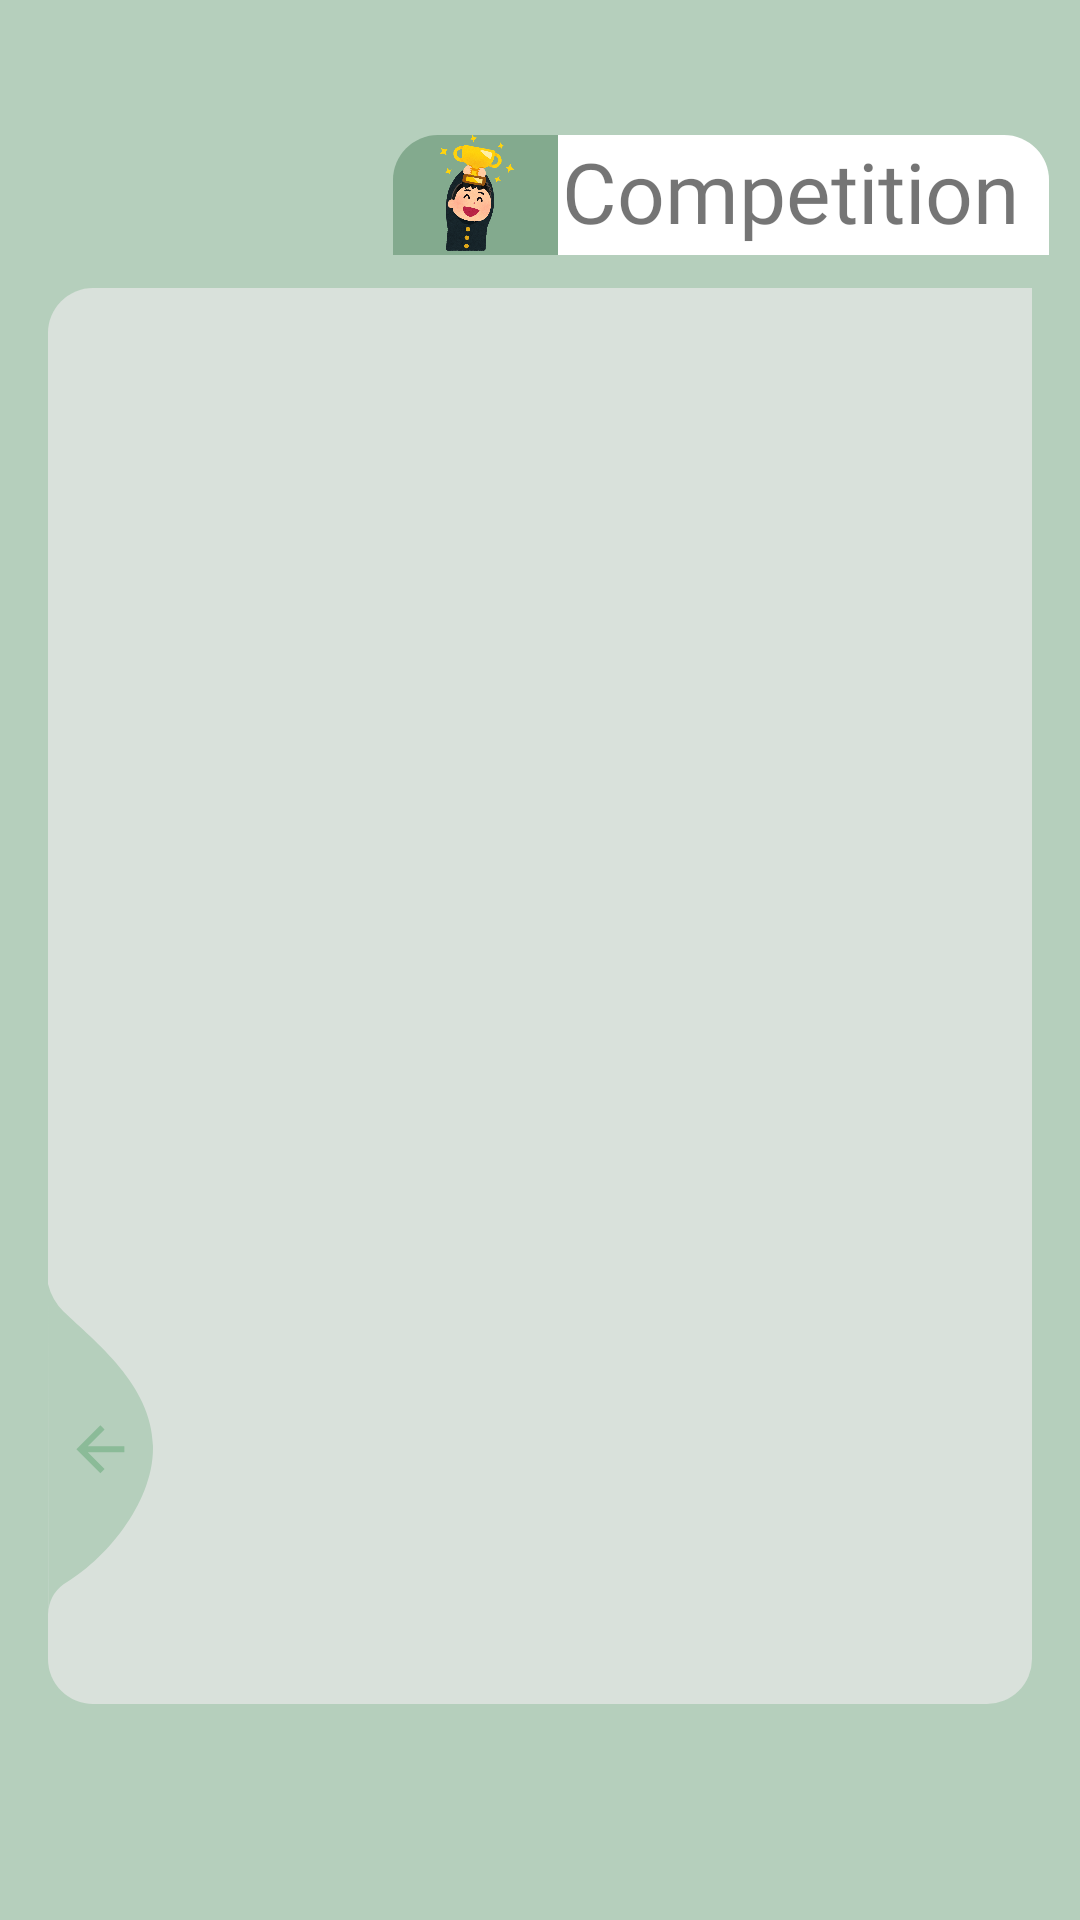

Where to tap for icons on this 1080×1920 app screen, as (x,y):
back: (100,1447)
